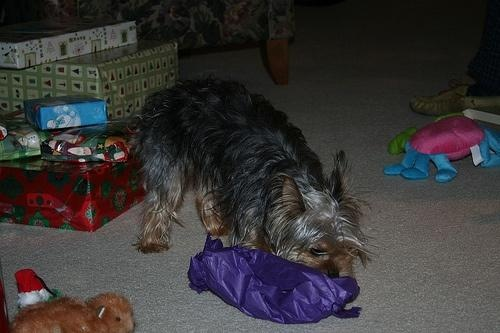chair: (1, 1, 295, 85)
dog: (135, 74, 380, 285)
